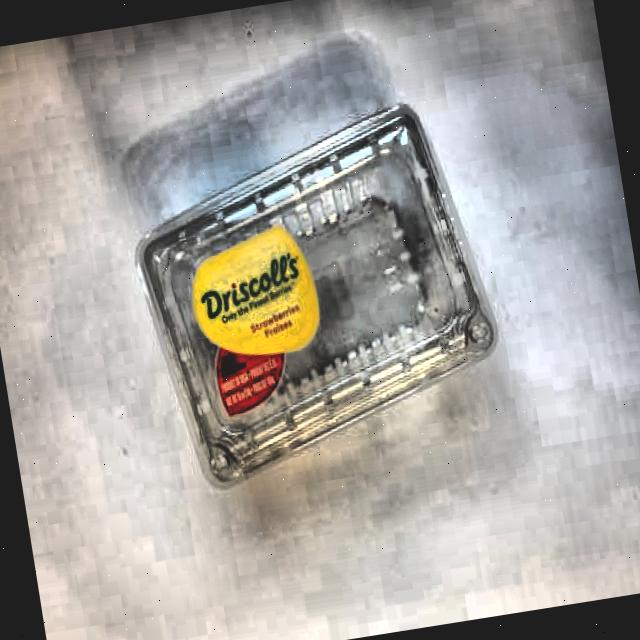plastic: (120, 92, 528, 481)
